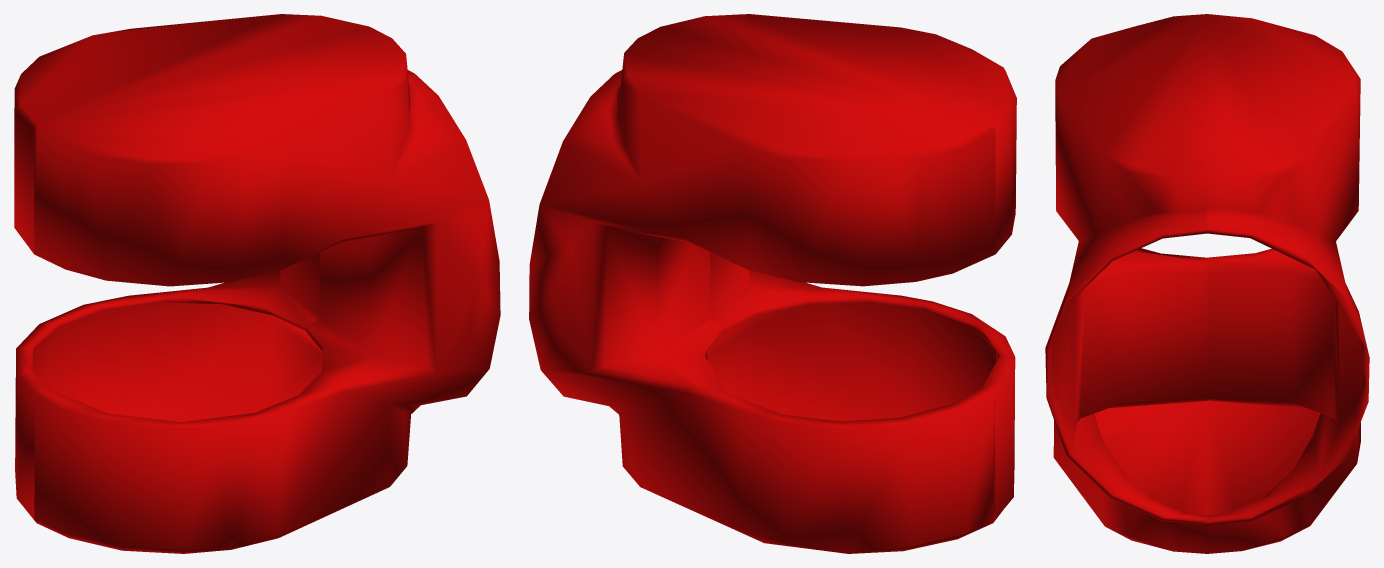
The model's file is S1_decimate.dae.
The picture shows the model from 3 angles, left to right: view 1: azimuth 30°, elevation 25°; view 2: azimuth 150°, elevation 25°; view 3: azimuth 270°, elevation 25°; orthographic projection. The views are drawn at different scales.
Visible parts, largest first — view 1: S1; view 2: S1; view 3: S1.
Boxes of the visible parts, left/top/right/bottom form: S1: left=14, top=14, right=500, bottom=553; S1: left=529, top=14, right=1016, bottom=553; S1: left=1045, top=14, right=1369, bottom=553.
Size of the model in its own units: 0.1936 by 0.1508 by 0.1937.
